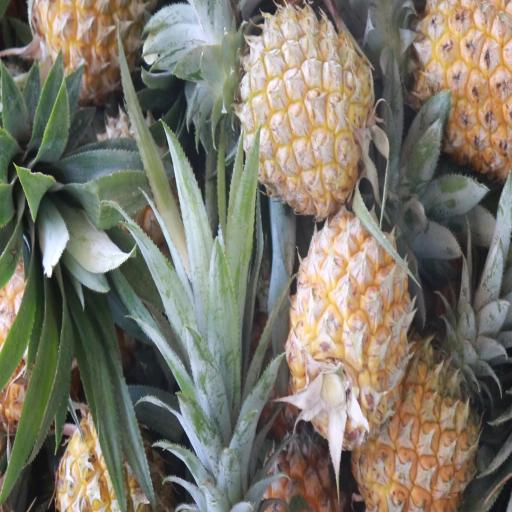------------------------------: (50, 400, 174, 512), (28, 0, 154, 100)
Pineapple - v8 v1: (293, 213, 411, 444), (238, 10, 374, 209), (358, 312, 474, 512), (393, 0, 512, 159)
